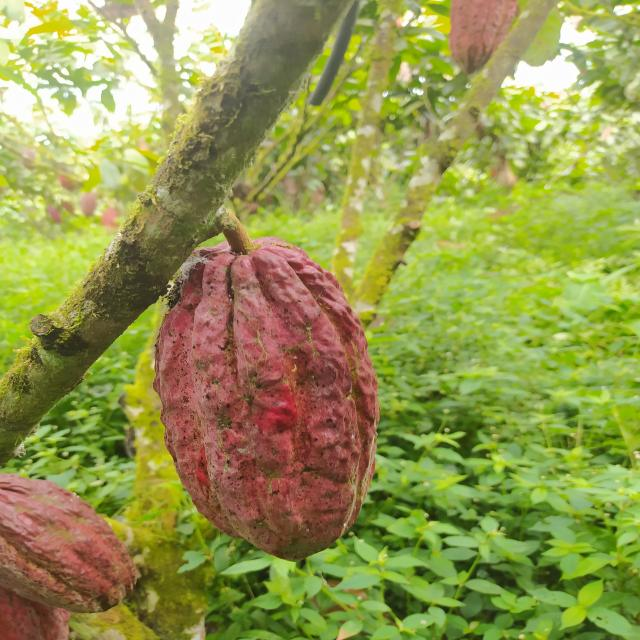Sana: (152, 235, 379, 562), (0, 471, 145, 612), (0, 126, 72, 191)
